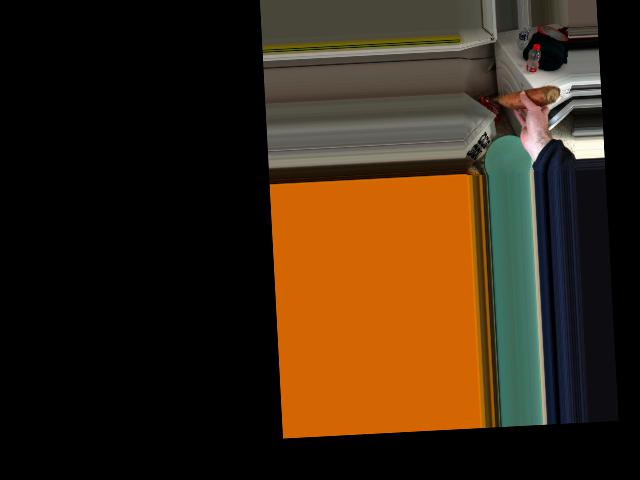sweet_potato: (498, 91, 551, 109)
